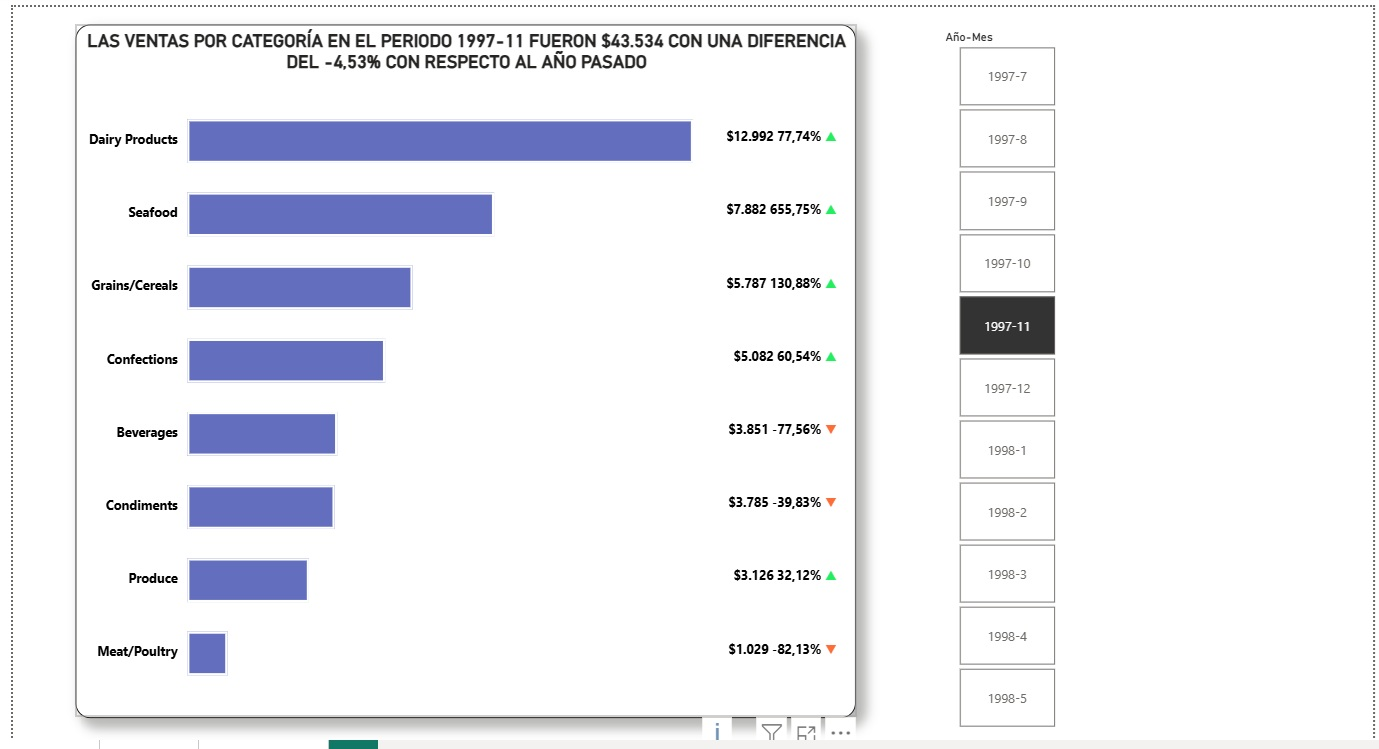

What the dashboard file says about the page in this screenshot:
{"tool":"powerbi","page":{"name":"BARRA","canvas":[1280,720],"ordinal":1},"visuals":[{"type":"slicer","fields":{"Values":["CALENDARIO.Año-Mes"]},"box":[864.7,16.5,140,668.2],"z":1000},{"type":"clusteredBarChart","fields":{"Category":["Categories.CategoryName"],"Y":["MEDIDAS.MAX CATE SELE","MEDIDAS.VENTAS"]},"box":[59,16.1,734.7,652.5],"z":2000}]}

Visuals, with their boxes on the page's 1280x720 design canvas (x1, y1, x2, y2). These are canvas units, not pixel positions in the 1379x749 screenshot, which may show the page scaled, cropped or inside an application window:
slicer - CALENDARIO.Año-Mes: x1=865 y1=16 x2=1005 y2=685
clusteredBarChart - Categories.CategoryName x MEDIDAS.MAX CATE SELE: x1=59 y1=16 x2=794 y2=669
